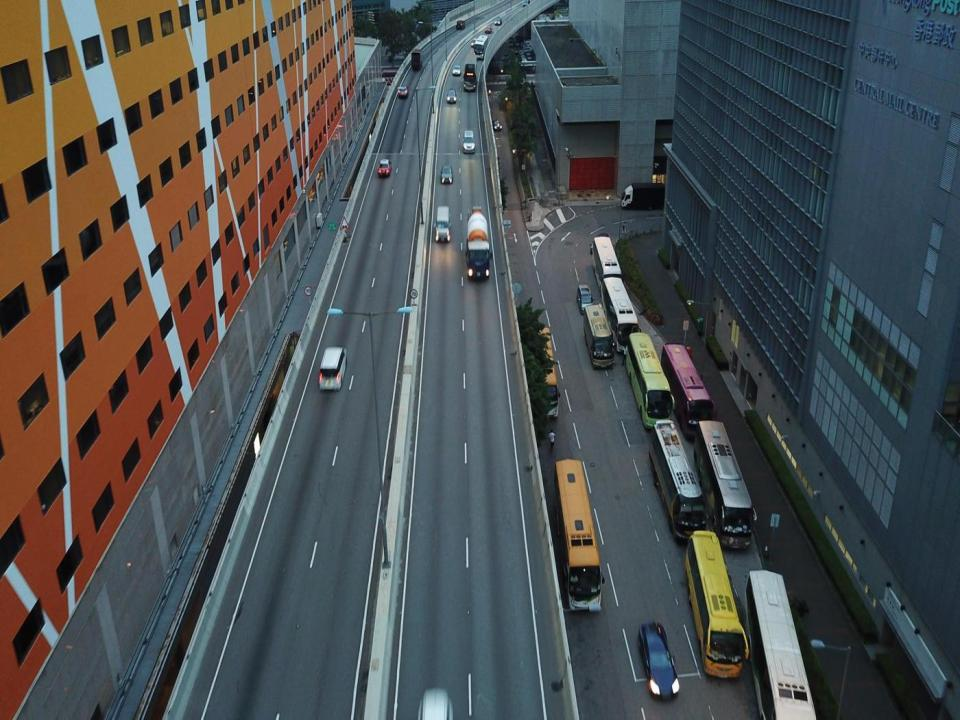bus: (744, 570, 815, 717), (689, 532, 749, 677), (550, 458, 604, 613), (648, 419, 708, 544), (699, 419, 757, 548), (624, 330, 676, 425), (661, 343, 715, 425), (532, 320, 564, 423), (603, 276, 642, 353), (584, 304, 616, 369), (593, 236, 621, 286), (474, 36, 487, 62)
car: (639, 618, 680, 700), (576, 284, 597, 314), (462, 130, 475, 155), (376, 158, 392, 176), (440, 164, 454, 184), (396, 84, 409, 101), (446, 87, 458, 105), (492, 118, 503, 132), (451, 65, 462, 77), (455, 18, 465, 31), (483, 24, 494, 33), (494, 16, 502, 26)
truck: (465, 208, 492, 280), (616, 184, 670, 214), (465, 66, 476, 92), (412, 48, 423, 70)
van: (318, 345, 345, 391), (433, 203, 453, 244)
